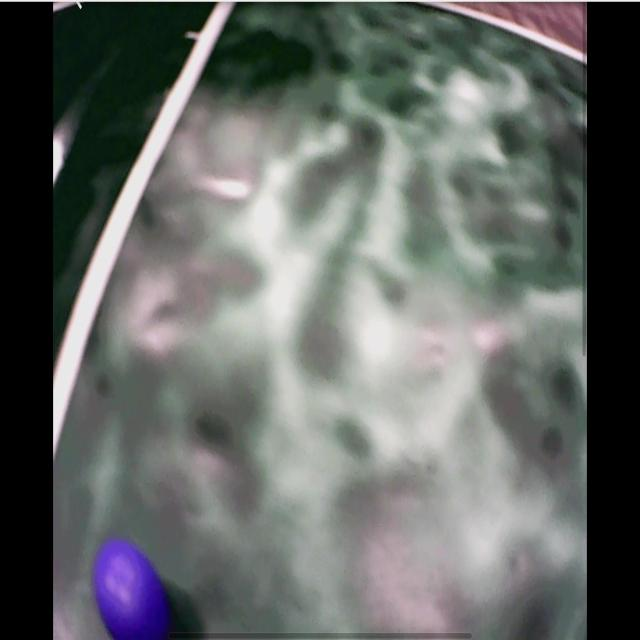ball: (95, 544, 170, 640)
